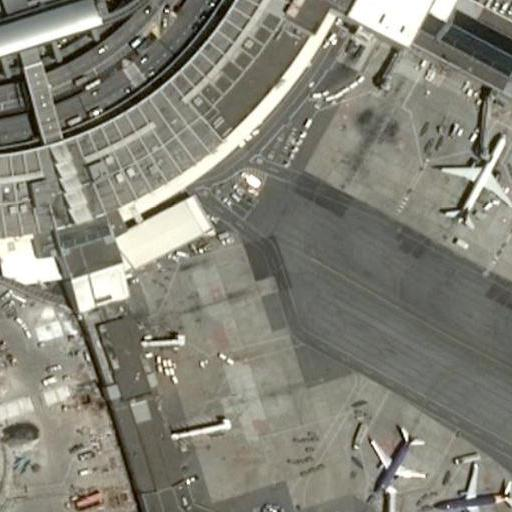Aircraft: (424, 122, 510, 231), (361, 424, 420, 507), (430, 454, 511, 508)
